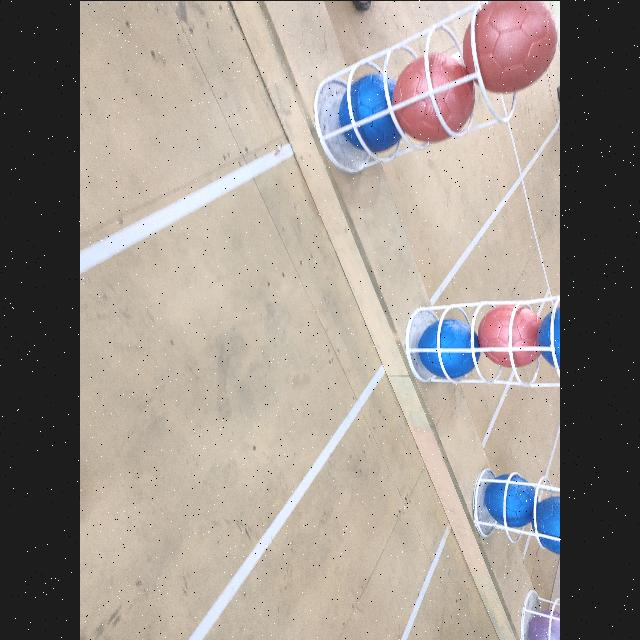B: (339, 72, 396, 150), (418, 317, 480, 378), (484, 474, 536, 528), (534, 496, 560, 556), (540, 304, 560, 372)
R: (462, 0, 556, 92), (396, 54, 476, 140), (480, 301, 542, 367)
